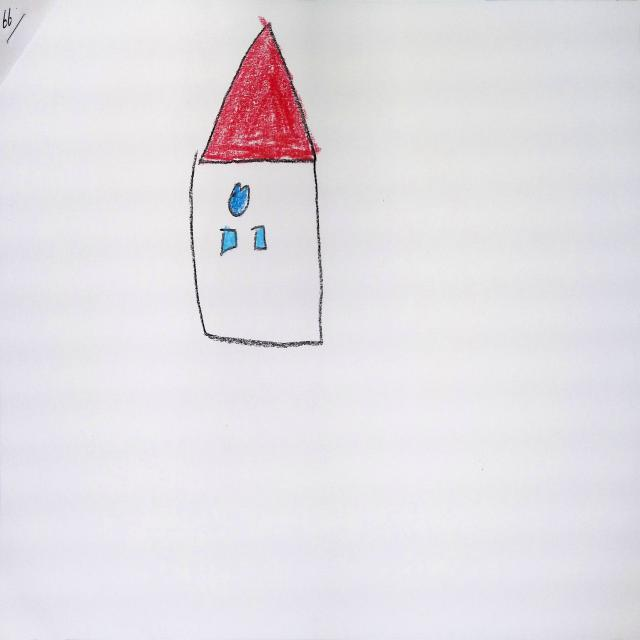house: (190, 22, 323, 346)
roof: (193, 19, 325, 162)
wall: (189, 156, 324, 348)
window: (224, 175, 253, 218), (249, 225, 270, 254), (221, 225, 238, 253)
